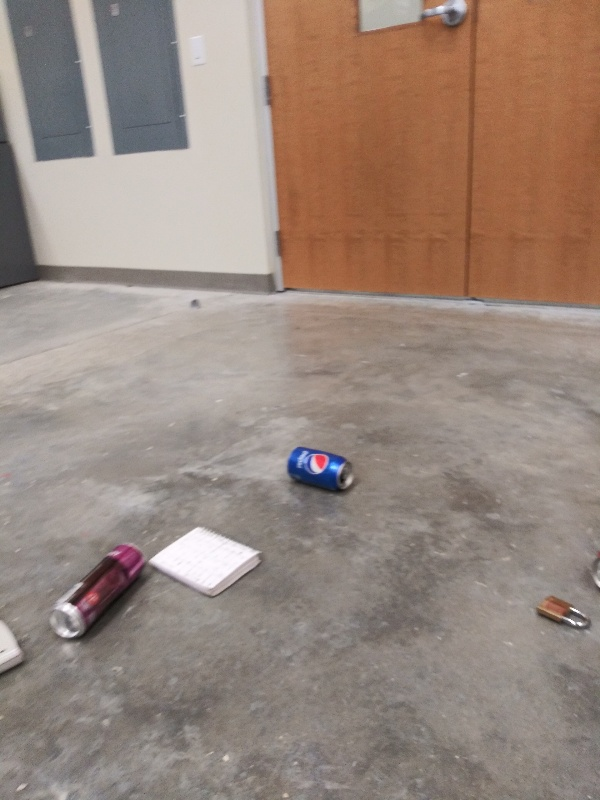can: (47, 537, 150, 645), (283, 443, 358, 497)
